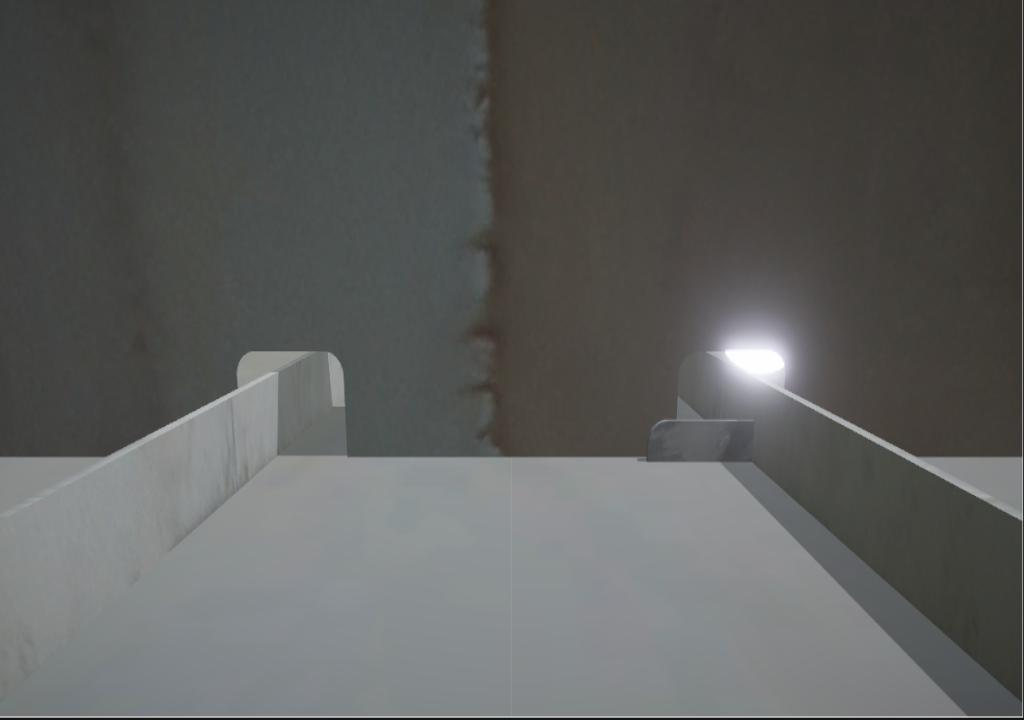fillet_yong_jeop_jang: (340, 448, 646, 460)
plate_CP05: (646, 419, 754, 463)
